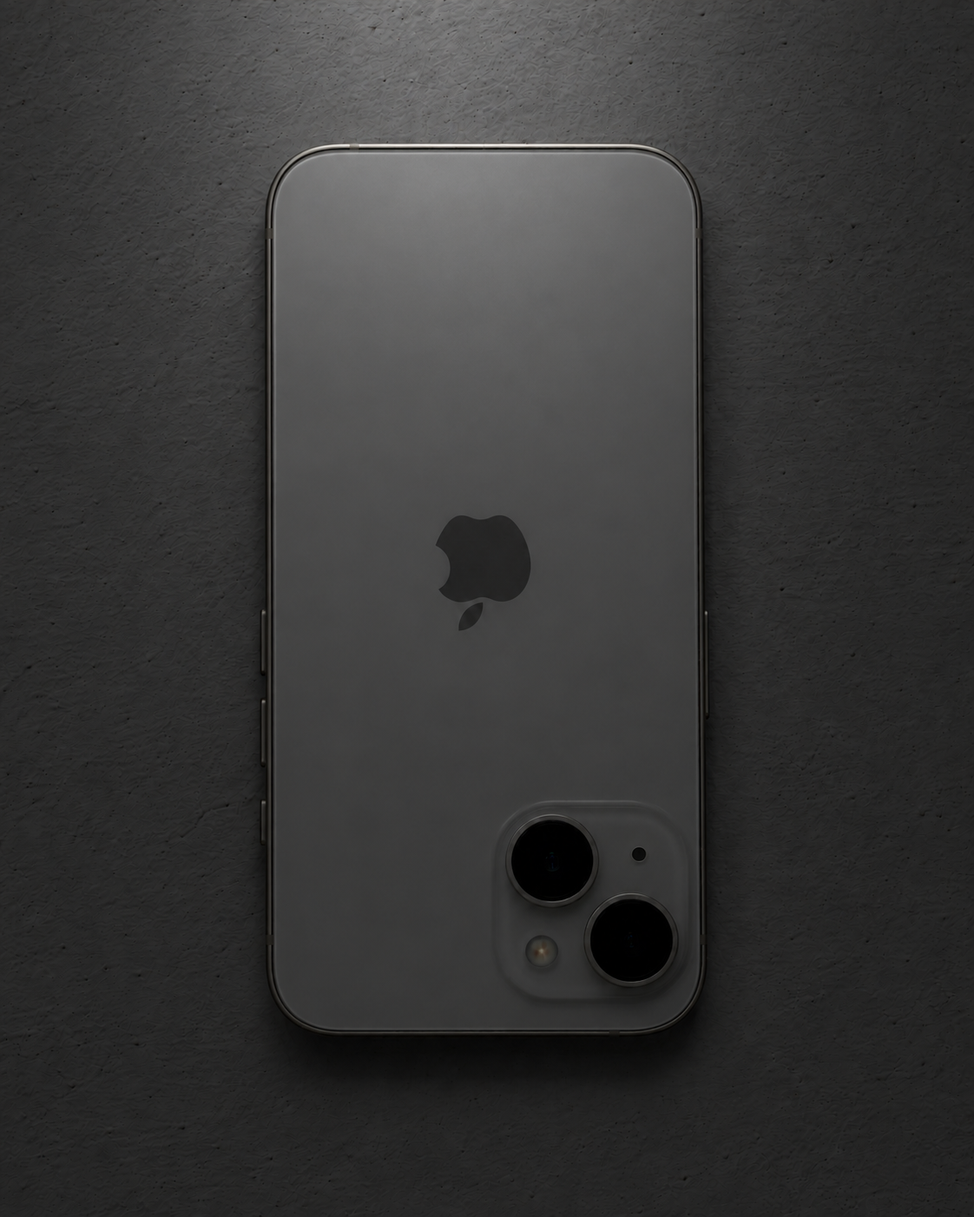iphone_14_white: (167, 116, 797, 1087), (480, 798, 701, 1025)
